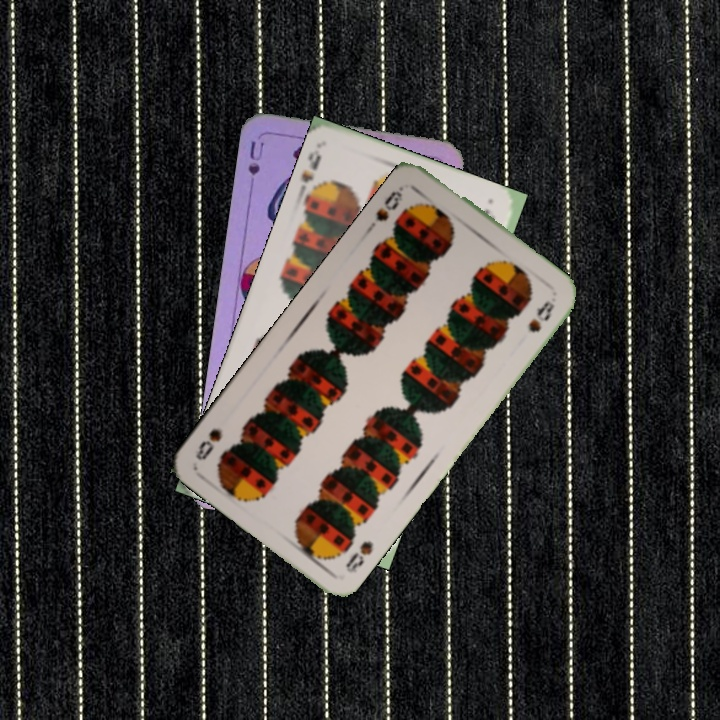S8: (372, 182, 406, 225), (341, 536, 376, 576)
S9: (294, 146, 326, 202)
SU: (244, 137, 267, 196)
